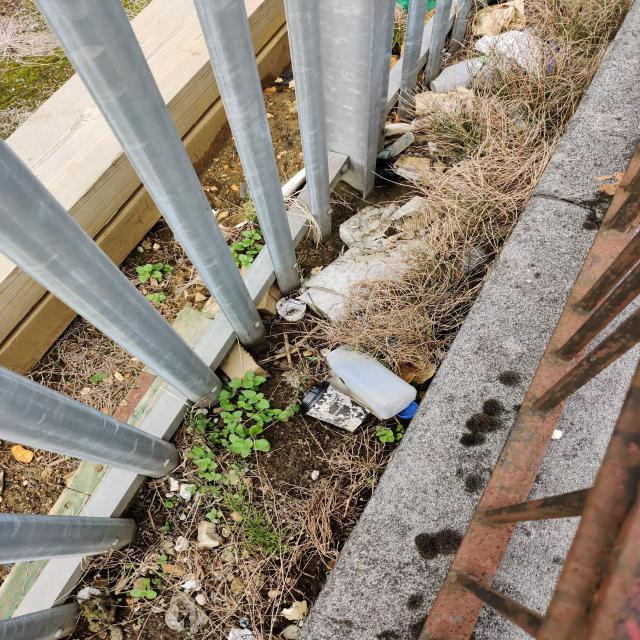litter: (307, 384, 374, 432)
